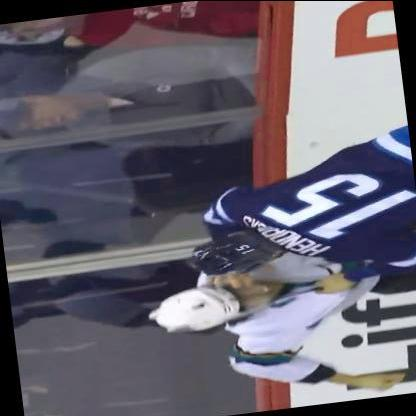voilence: (132, 139, 415, 416)
